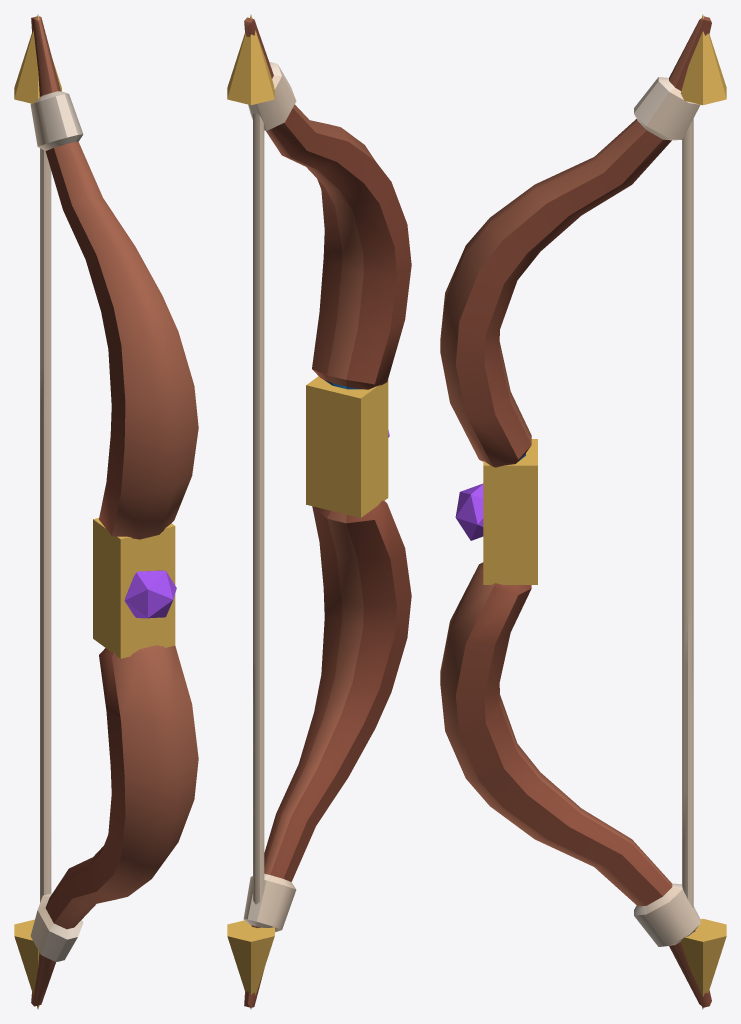
File: ranger_sword_t3_epic.glb
The picture shows the model from 3 angles, left to right: view 1: azimuth 30°, elevation 25°; view 2: azimuth 150°, elevation 25°; view 3: azimuth 270°, elevation 25°; orthographic projection.
Visible parts, largest first — view 1: ranger_sword_t3_epic__handslot_l; view 2: ranger_sword_t3_epic__handslot_l; view 3: ranger_sword_t3_epic__handslot_l.
Part boxes in pixels (x1,y1,x2,y2): ranger_sword_t3_epic__handslot_l: [14, 14, 198, 1009]; ranger_sword_t3_epic__handslot_l: [227, 14, 411, 1009]; ranger_sword_t3_epic__handslot_l: [440, 14, 726, 1009].
Size of the model in its own units: 0.0856 by 1.1 by 0.2868.
3 materials, 2 textured.
